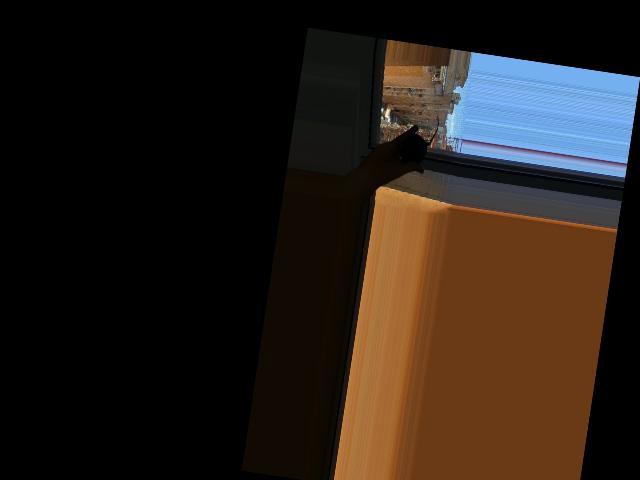beet: (398, 110, 440, 164)
